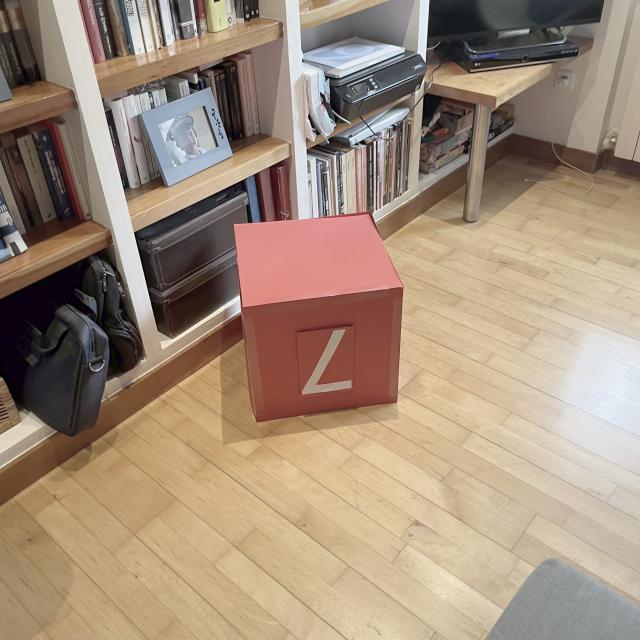box: (230, 210, 406, 423)
